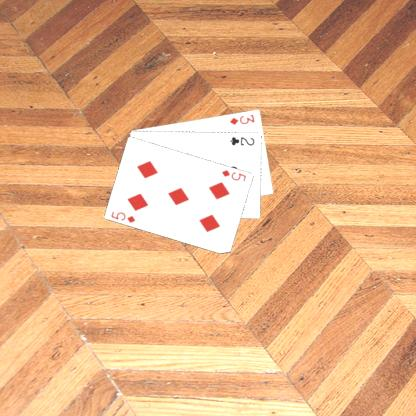2C: (228, 134, 256, 146)
3D: (227, 112, 256, 126)
5D: (219, 167, 248, 183), (109, 209, 137, 224)
